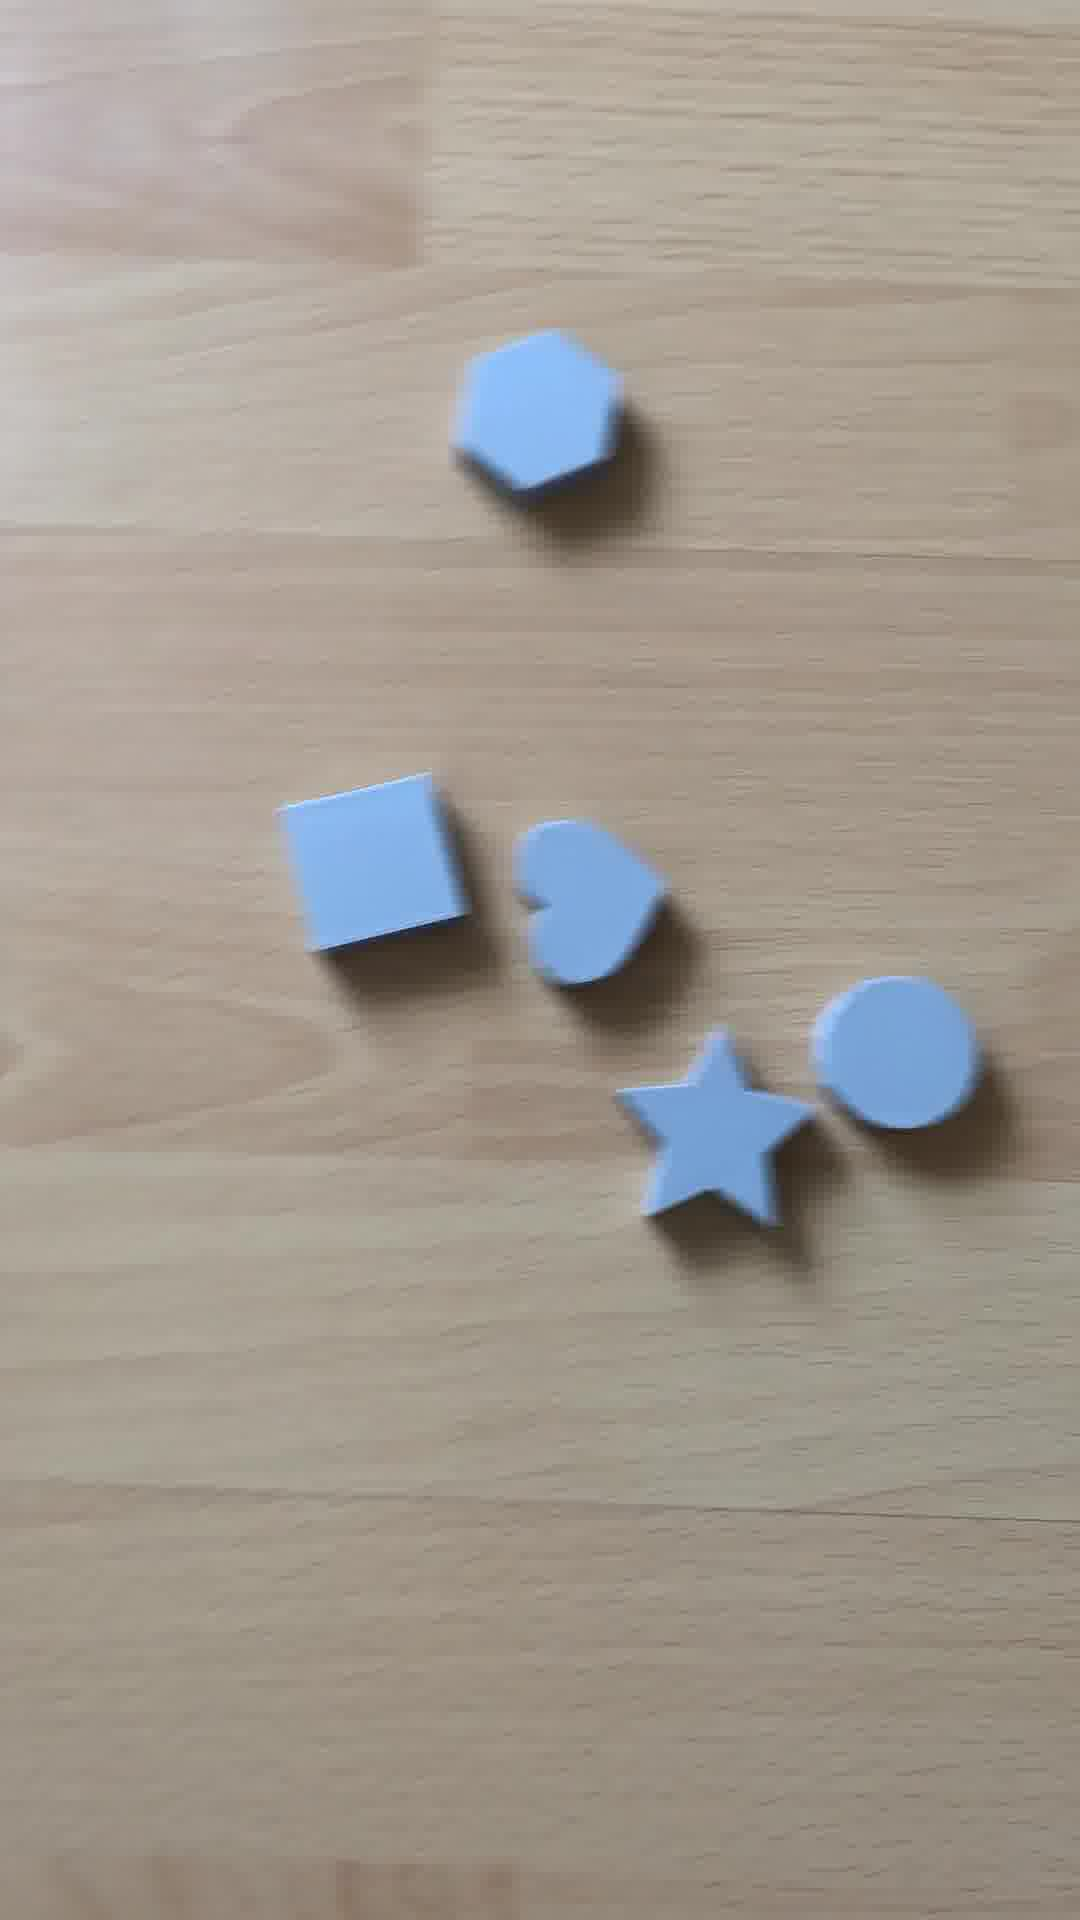Gray circle: (816, 971, 981, 1146)
Gray heart: (506, 820, 688, 1006)
Gray hexagon: (443, 322, 622, 502)
Gray square: (276, 764, 469, 963)
Gray star: (604, 1026, 815, 1238)
